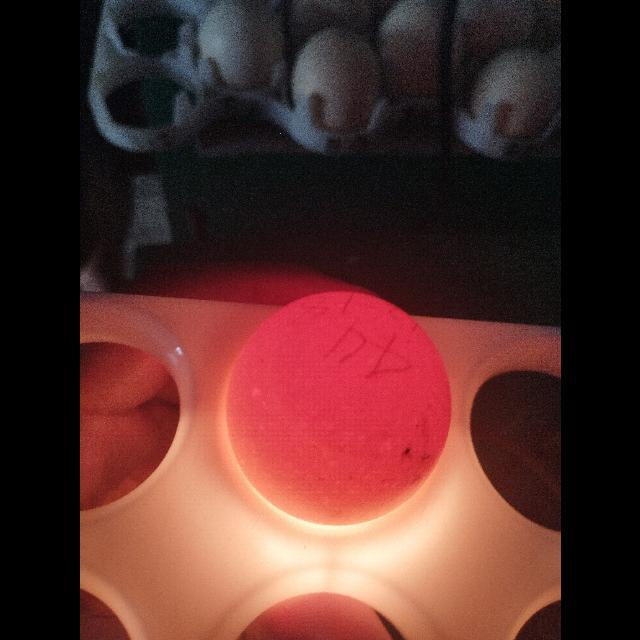Infertile: (220, 288, 458, 534)
